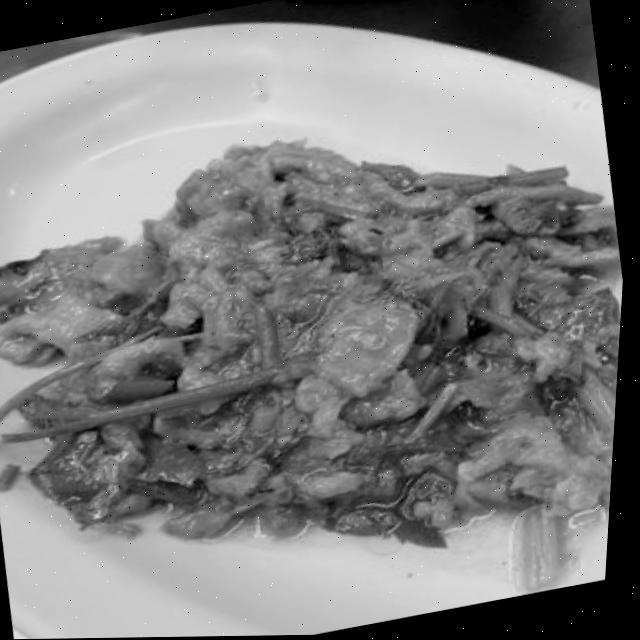牛肉菜式: (0, 41, 638, 640)
